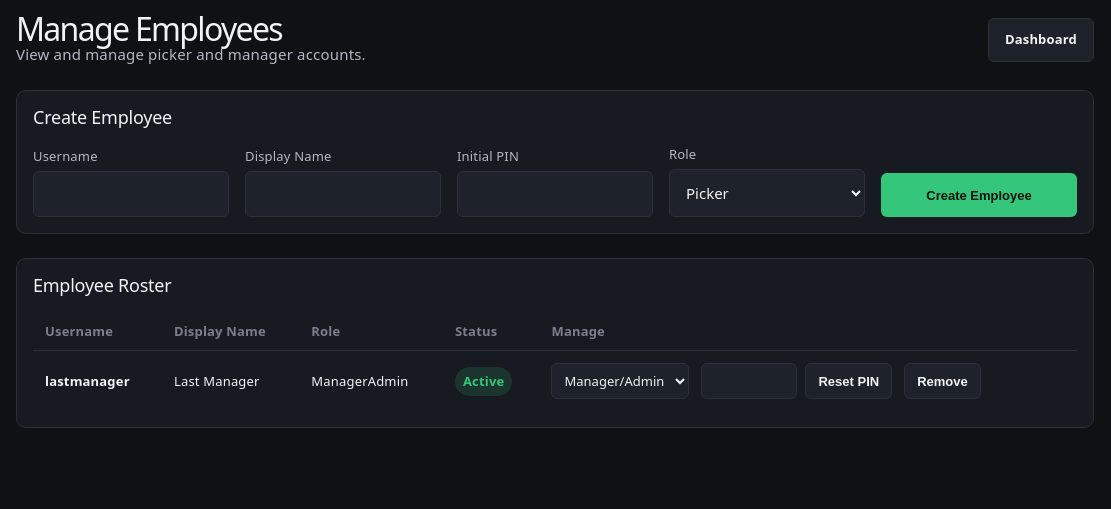
AdminPage › shows a clear message and leaves the row unchanged when removal is blocked
Click the button "Remove": click(942, 382) top-left (904, 364), bottom-right (981, 400)
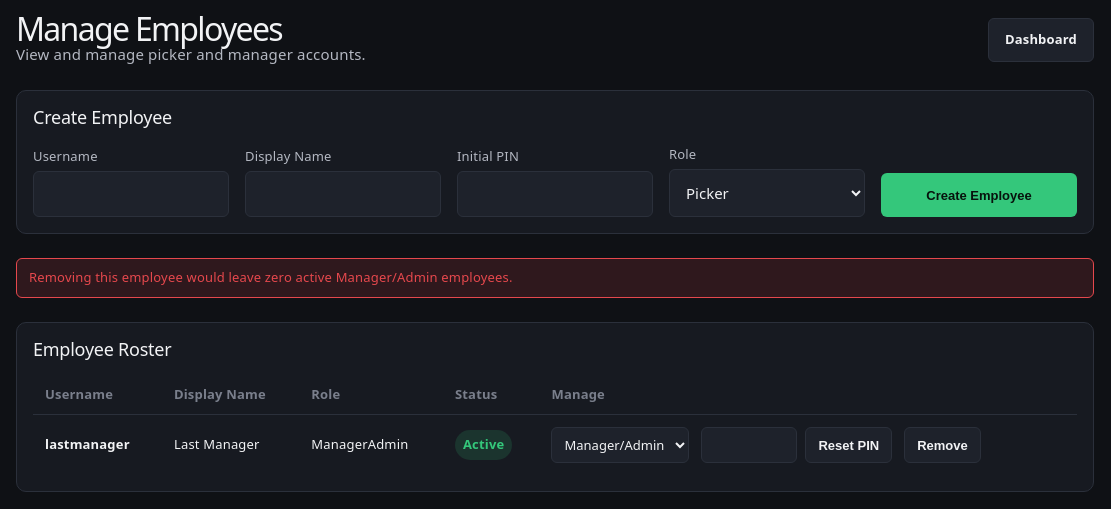
Check: the text "Active" is shown, box top-left (455, 430), bottom-right (512, 460)
Check: the message shows "Manager", box top-left (29, 268), bottom-right (513, 286)
